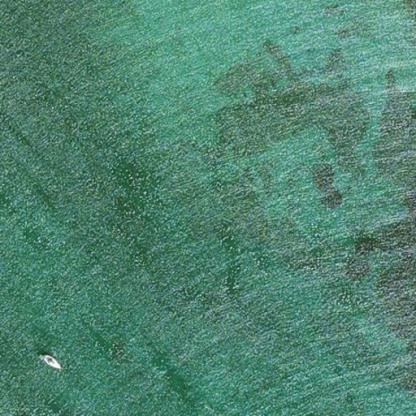ship: (36, 350, 62, 370)
